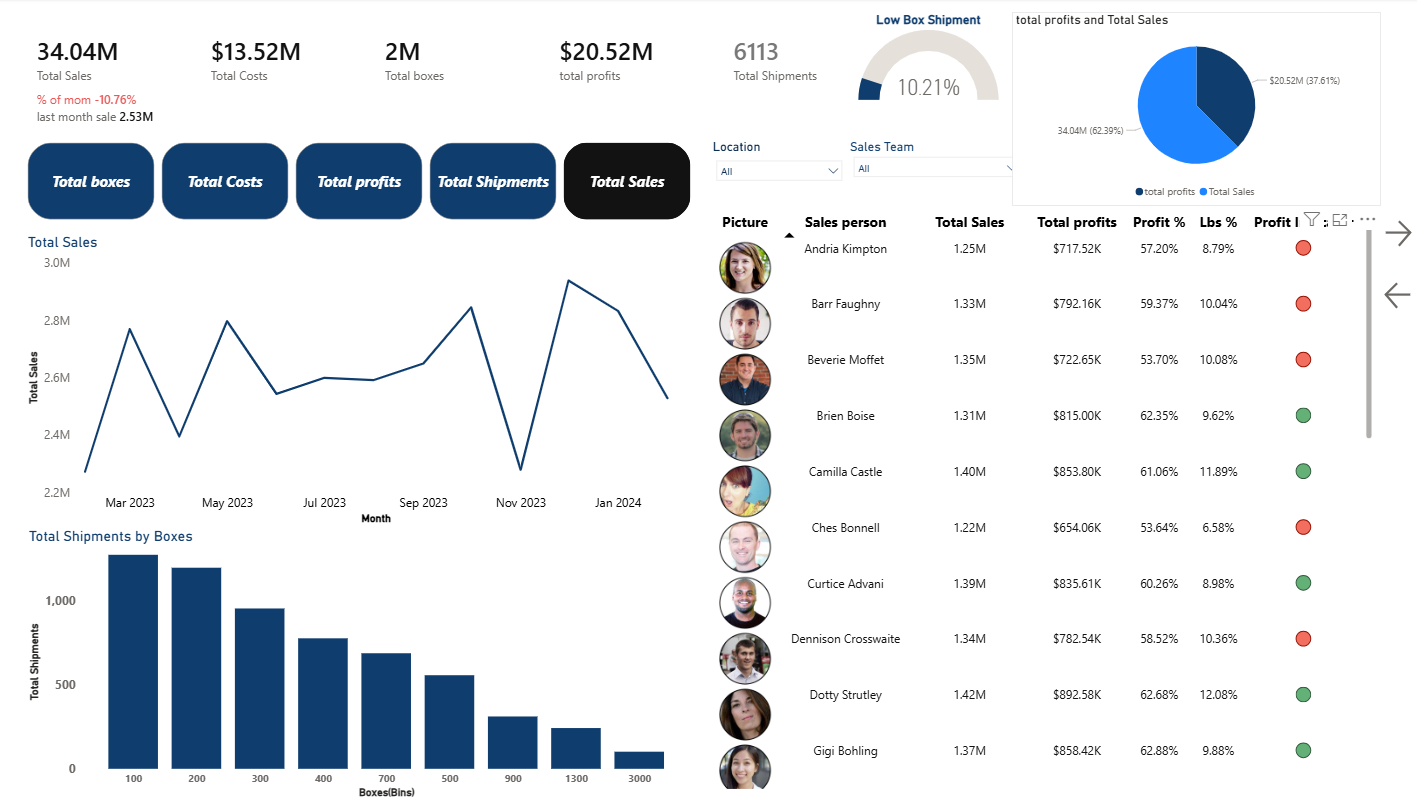

Layout of this report page (visuals, bound fields, positions):
{"tool":"powerbi","page":{"name":"Page 3","canvas":[1920,1080],"ordinal":2},"visuals":[{"type":"cardVisual","fields":{"Data":["Measures (2).Total Sales","Measures (2).Total Costs","Measures (2).Total boxes","Measures (2).total profits","Measures (2).Total Shipments"]},"box":[40.2,19.4,1176.1,211.9],"z":0},{"type":"slicer","title":"Sales Team","fields":{"Values":["people.Team"]},"box":[1149.9,189.4,235.1,98.1],"z":1000},{"type":"lineChart","fields":{"Y":["Measures (2).Total Sales"],"Category":["calendar.Start of Month"]},"box":[39.8,316.9,900.3,395],"z":2000},{"type":"advancedSlicerVisual","fields":{"Values":["Measure_selector.Measure_selector"]},"box":[39.8,189.9,900.3,113.3],"z":3000},{"type":"columnChart","title":"Total Shipments by Boxes","fields":{"Y":["Measures (2).Total Shipments"],"Category":["shipments.Boxes(Bins)"]},"box":[41.3,712,898.8,367.5],"z":4000},{"type":"gauge","title":"Low Box Shipment","fields":{"Y":["Measures (2).lbs percentage"]},"box":[1143.1,18.8,224.3,118.2],"z":5000},{"type":"tableEx","title":"Product Details","fields":{"Values":["products.Product","Measures (2).Total Sales","Measures (2).total profits","Measures (2).lbs percentage","Measures (2).Profit percentage","Measures (2).Profit Indicator"]},"box":[960.4,287.5,902.7,773.7],"z":7000},{"type":"actionButton","box":[1863.1,287.5,45.7,57.8],"z":8000},{"type":"actionButton","box":[1863.1,370.7,45.7,57.8],"z":9000},{"type":"slicer","title":"Location","fields":{"Values":["locations.Geo"]},"box":[960.4,189.4,189.4,90],"z":9001},{"type":"pieChart","fields":{"Y":["Measures (2).total profits","Measures (2).Total Sales"]},"box":[1367.5,0,495.7,260.6],"z":9002}]}

Visuals, with their boxes in screenshot pixels (x1, y1, x2, y2), scaled from the page's 1920x1080 canvas onto the 1417x797 screenshot:
cardVisual - Measures (2).Total Sales x Measures (2).Total Costs: (30, 14, 898, 171)
"Sales Team" slicer: (849, 140, 1022, 212)
lineChart - Measures (2).Total Sales x calendar.Start of Month: (29, 234, 694, 525)
advancedSlicerVisual - Measure_selector.Measure_selector: (29, 140, 694, 224)
"Total Shipments by Boxes" columnChart: (30, 525, 694, 796)
"Low Box Shipment" gauge: (844, 14, 1009, 101)
"Product Details" tableEx: (709, 212, 1375, 783)
actionButton: (1375, 212, 1409, 255)
actionButton: (1375, 274, 1409, 316)
"Location" slicer: (709, 140, 849, 206)
pieChart - Measures (2).total profits x Measures (2).Total Sales: (1009, 0, 1375, 192)
